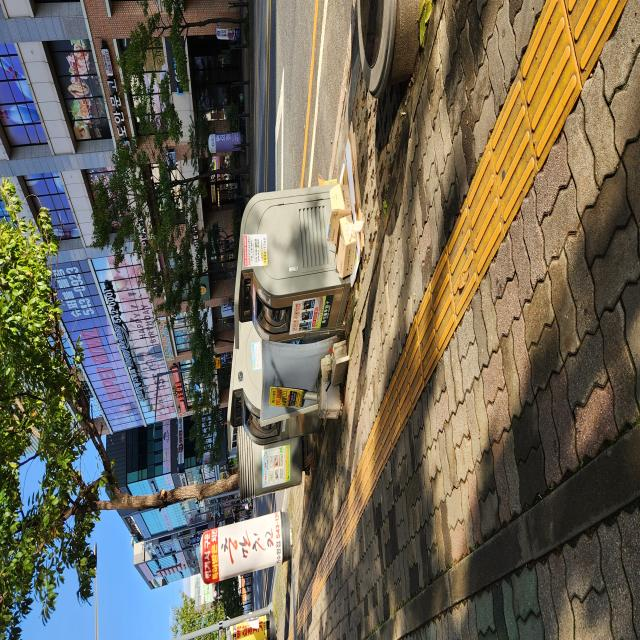CleanNet: (135, 505, 211, 640), (86, 489, 147, 640)
